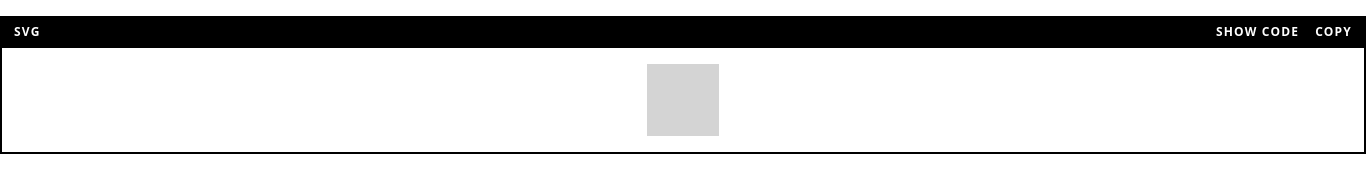
SVG visuals in code blocks › shows the SVG as a visual by default and can switch to the source
What coordinates should you click on to do the following:
click the button "Show code"
I would click on:
 (1258, 32)
Its box is 1216,24 -> 1299,40.
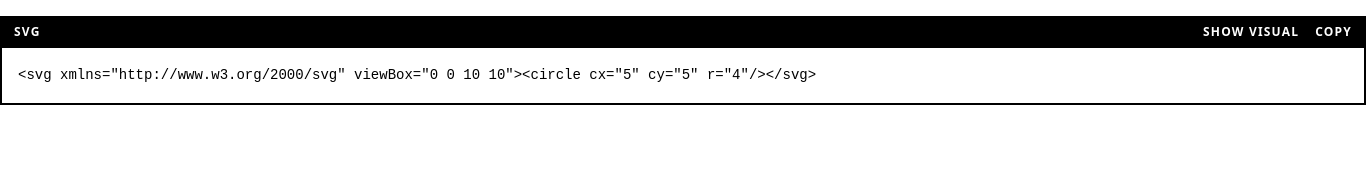
Check: the element with test id "svg-visual" is gone
What coordinates should you click on to do the following:
click the button "Show visual"
I would click on:
 (1251, 32)
Its box is 1203,24 -> 1299,40.
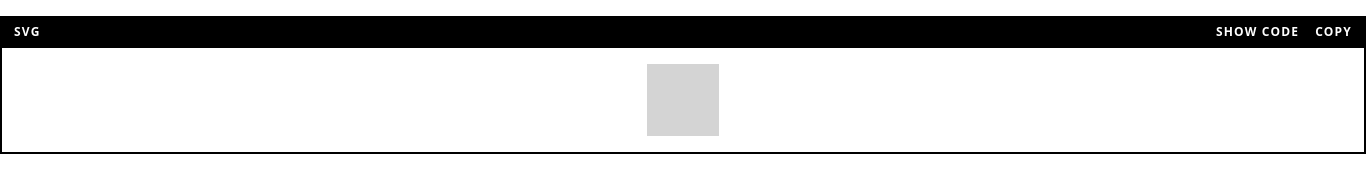
Check: the element with test id "svg-visual" is shown
